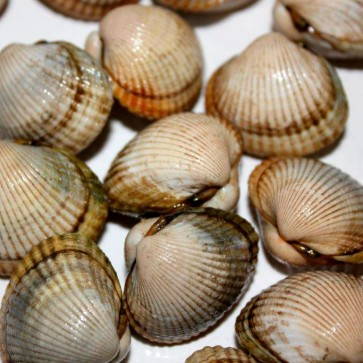cockle: (203, 31, 353, 162), (124, 206, 262, 348), (1, 234, 134, 363), (1, 136, 112, 280), (104, 112, 246, 216), (84, 4, 206, 124), (1, 41, 116, 159), (248, 154, 363, 270), (270, 1, 363, 63), (181, 345, 258, 363)
